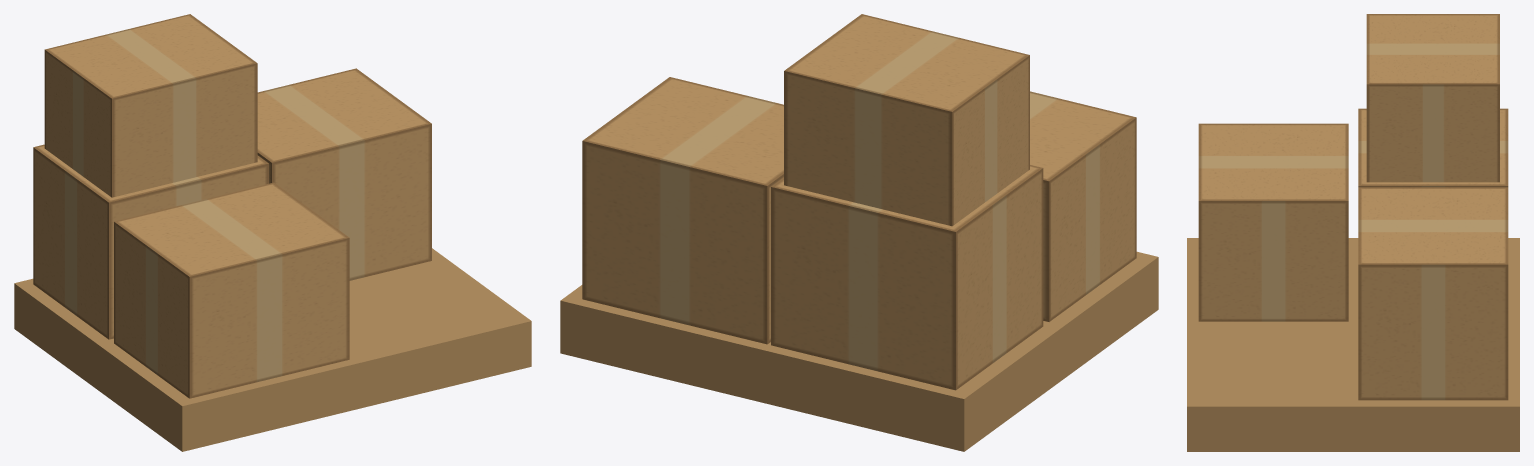
3 views of the same model, side by side, from view 1: azimuth 30°, elevation 25°; view 2: azimuth 150°, elevation 25°; view 3: azimuth 270°, elevation 25° (orthographic). The views are drawn at different scales.
Size of the model in its own units: 1.2 by 0.925 by 1.
2 materials, 1 textured.
